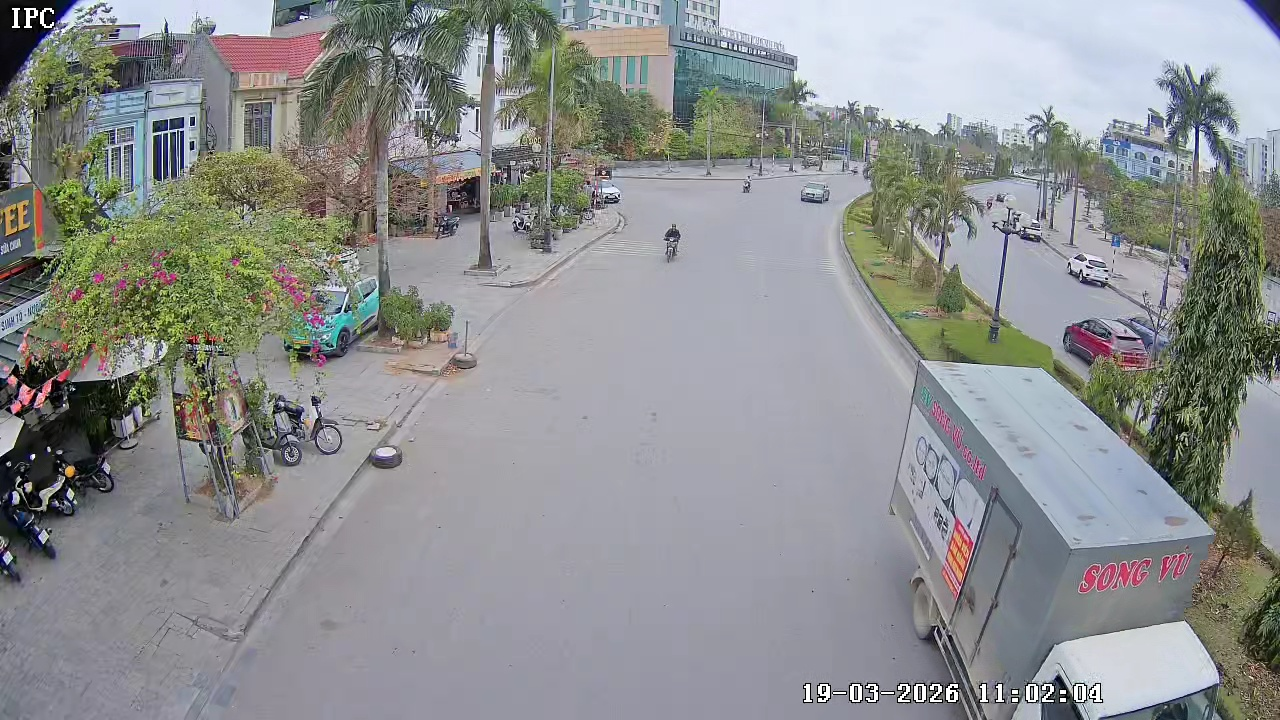bike: (264, 390, 305, 464), (308, 383, 344, 457)
car: (799, 176, 832, 205)
motorbike: (0, 524, 24, 585), (661, 222, 682, 262), (741, 168, 755, 196)
truck: (860, 348, 1256, 719)
